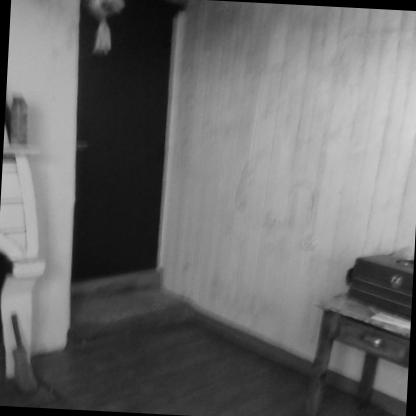closed: (41, 0, 197, 294)
